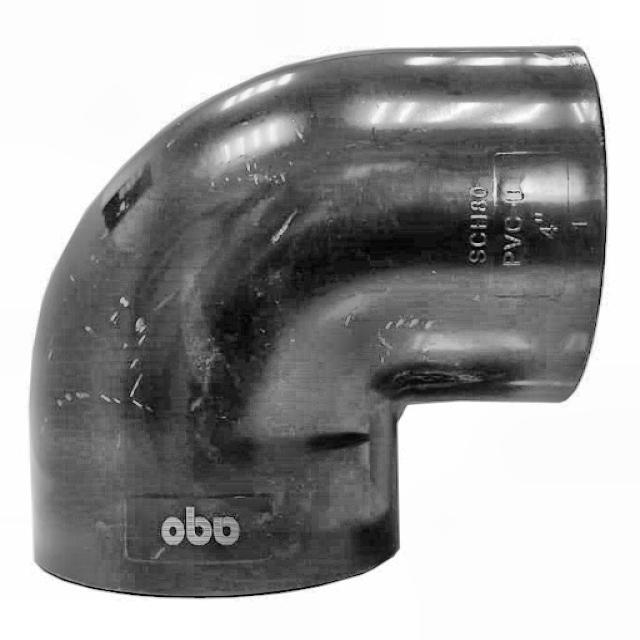ELBOW90: (28, 44, 611, 602)
